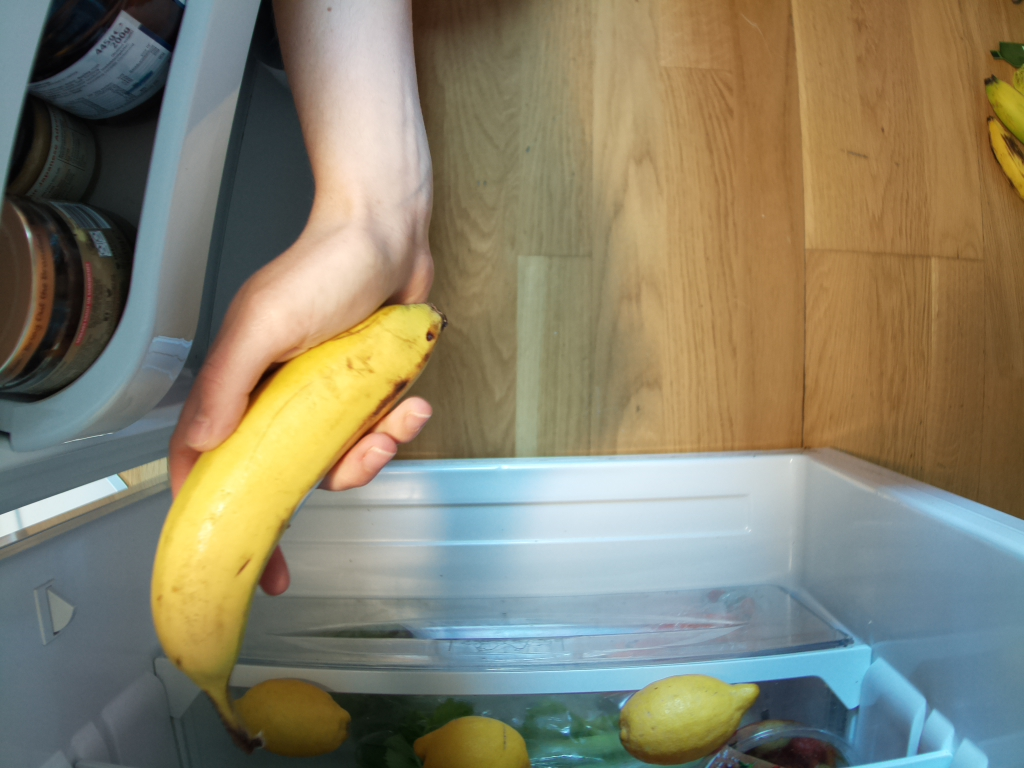banana: (142, 298, 456, 749)
